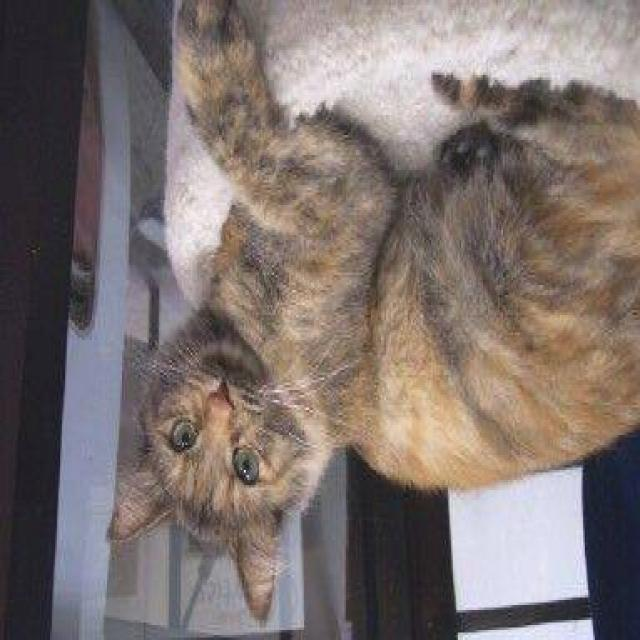Kucing: (60, 0, 640, 629)
